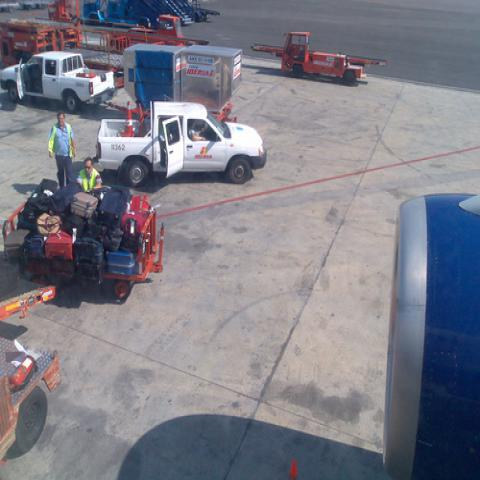car: (0, 334, 61, 462)
truck: (100, 106, 266, 185), (2, 50, 103, 114), (280, 32, 366, 84)
